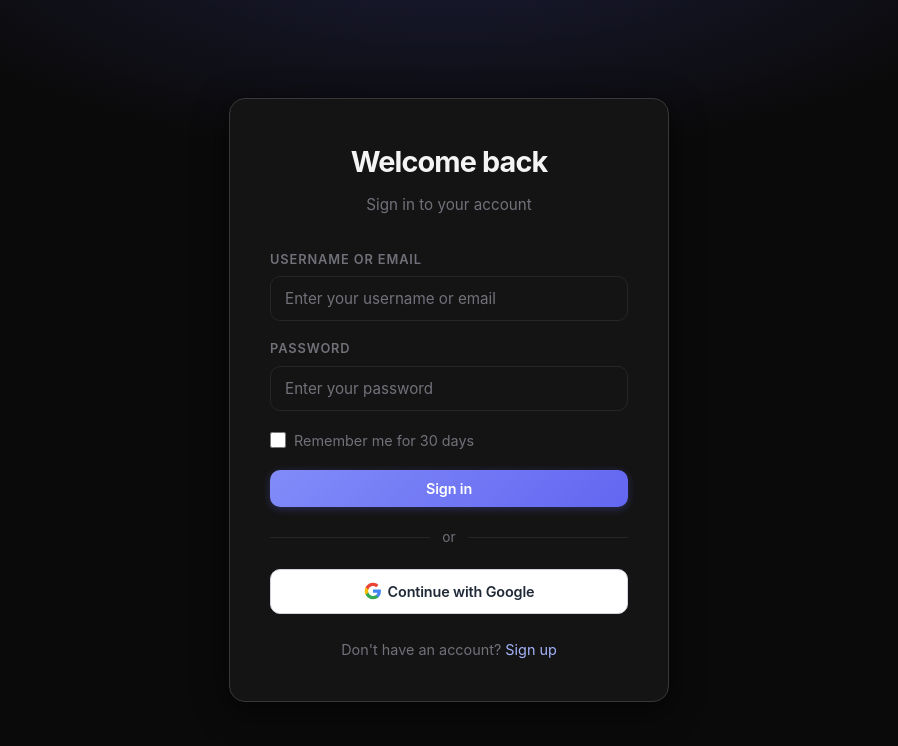
LoginPage › Client-side validation › shows required errors when submitting empty form
The image size is (898, 746).
Click the button "Sign in".
click(449, 488)  # box top-left (270, 470), bottom-right (628, 507)
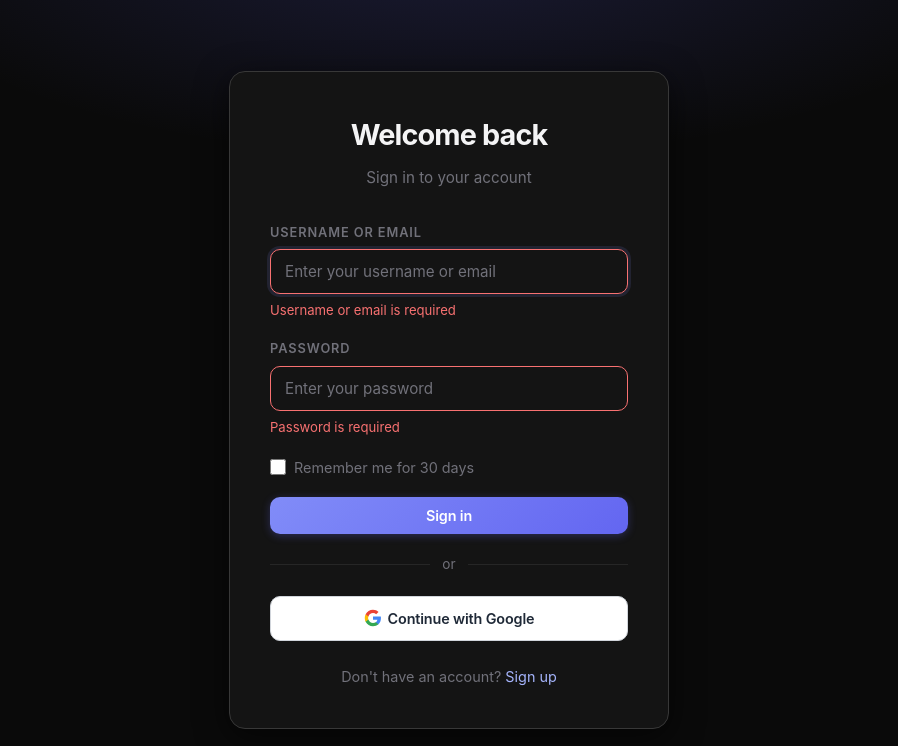
Expected: the text "Username or email is required" is shown, top-left (270, 302), bottom-right (456, 318)
Expected: the text "Password is required" is shown, top-left (270, 419), bottom-right (400, 435)
